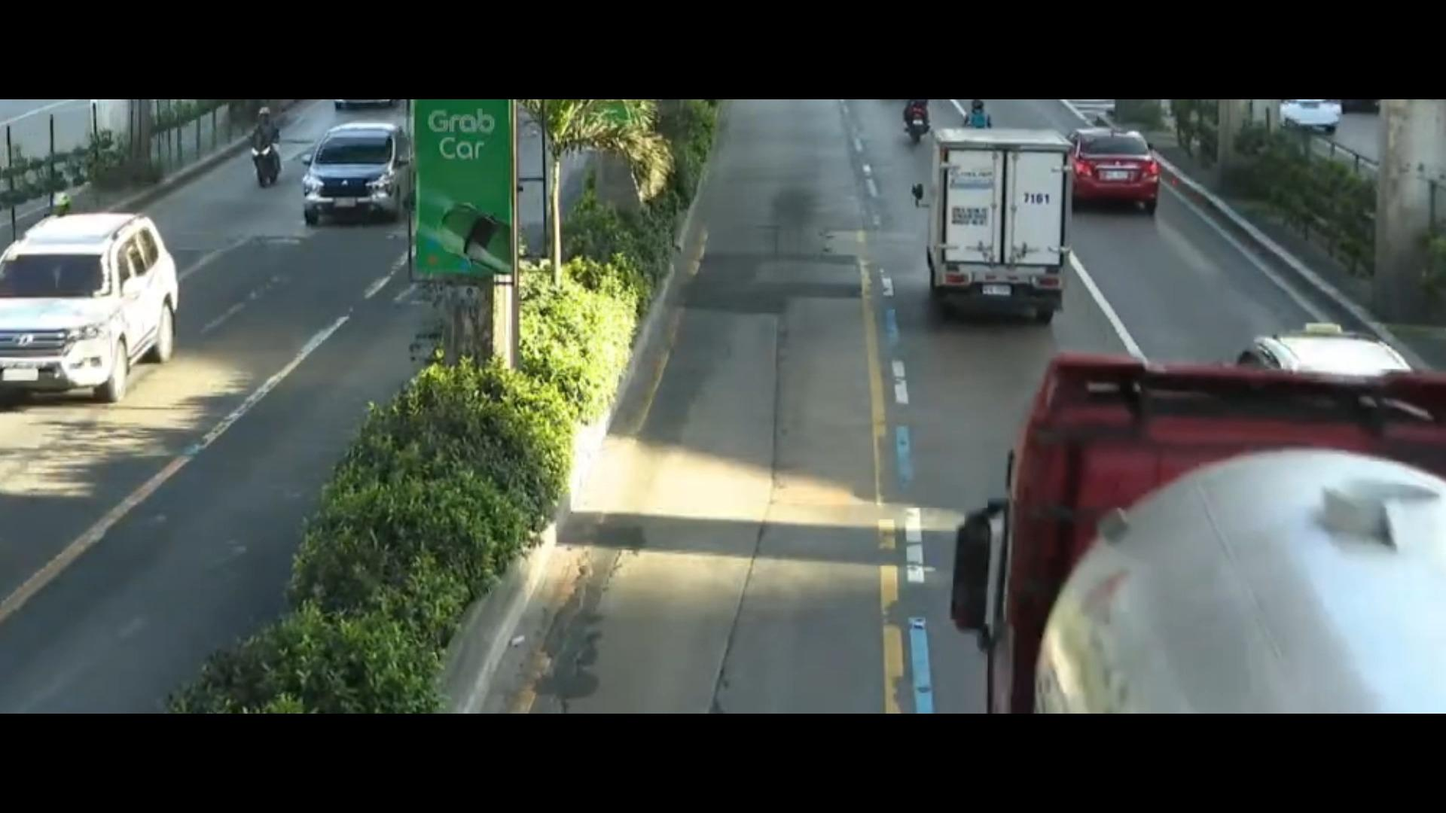Motorcycle: (248, 121, 304, 209), (896, 100, 940, 148)
SUV: (0, 190, 181, 395), (287, 119, 418, 246)
Sedan: (1066, 117, 1179, 205)
Truck: (938, 307, 1446, 711), (912, 126, 1099, 340)
